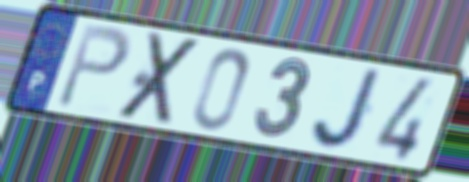0: (192, 46, 252, 133)
3: (252, 55, 314, 142)
4: (370, 75, 441, 164)
J: (310, 65, 388, 152)
P: (52, 21, 134, 112)
X: (112, 30, 207, 128)
